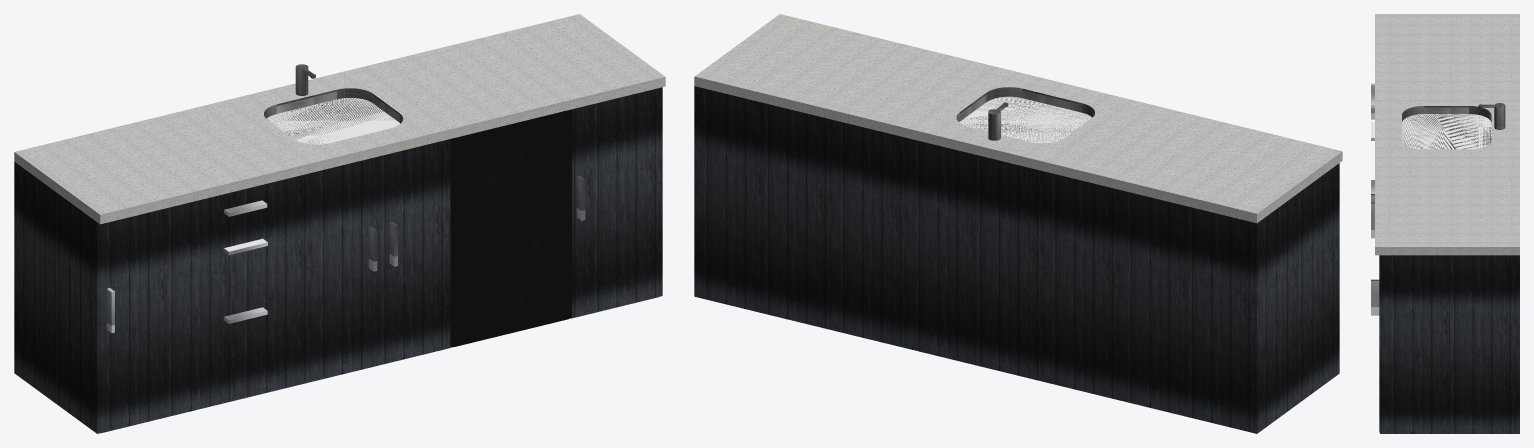
File: kitchen-counter.dae
3 views of the same model, side by side, from view 1: azimuth 30°, elevation 25°; view 2: azimuth 150°, elevation 25°; view 3: azimuth 270°, elevation 25° (orthographic). The views are drawn at different scales.
Parts seen in each view (by area): view 1: SketchUp (×5); view 2: SketchUp (×4); view 3: SketchUp (×6).
Part boxes in pixels (x1=…): SketchUp (×5): x1=14, y1=14, x2=665, y2=433; SketchUp (×4): x1=694, y1=14, x2=1342, y2=433; SketchUp (×6): x1=1371, y1=14, x2=1519, y2=433.
Size of the model in its own units: 96.85 by 26.16 by 40.55.
6 materials, 5 textured.
